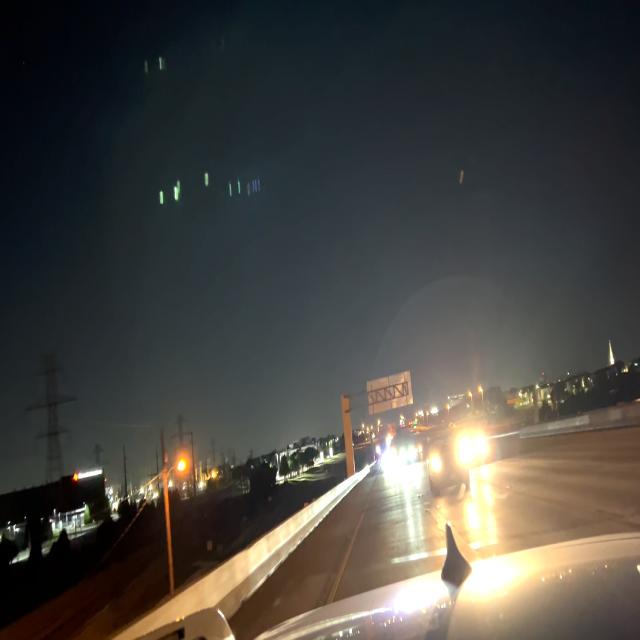back-of-sign: (368, 368, 415, 415)
